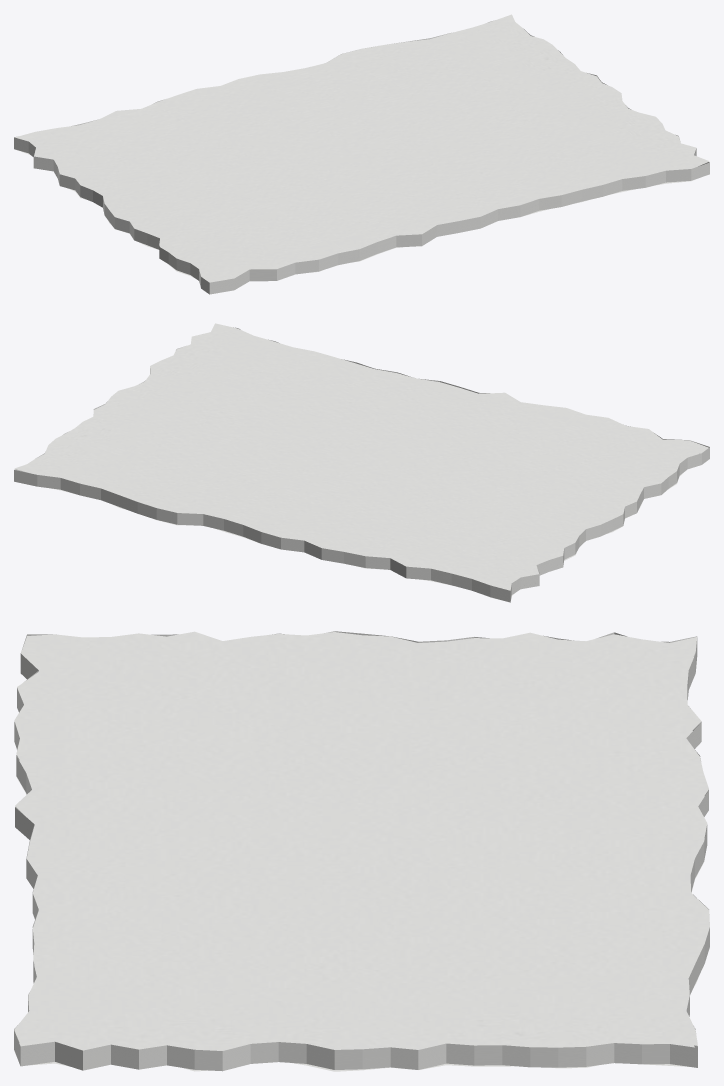
The model's file is cotton_paper_4.glb.
The picture shows the model from 3 angles, top to bottom: view 1: azimuth 30°, elevation 25°; view 2: azimuth 150°, elevation 25°; view 3: azimuth 270°, elevation 25°; orthographic projection. The views are drawn at different scales.
Bounding box in the file's own units: 2.55 × 0.0687 × 1.79.
1 material, 1 textured.
